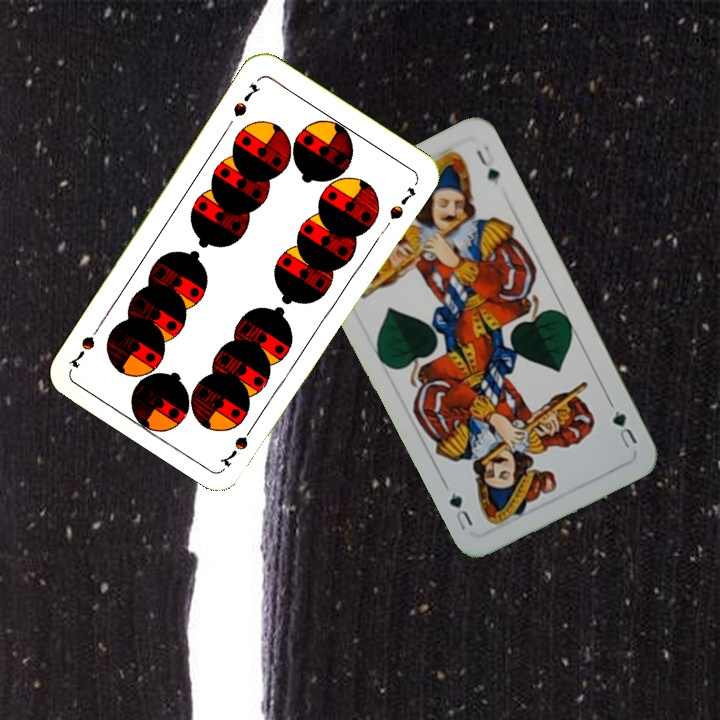GU: (608, 406, 640, 452)
S7: (217, 418, 259, 470), (229, 79, 263, 120)
